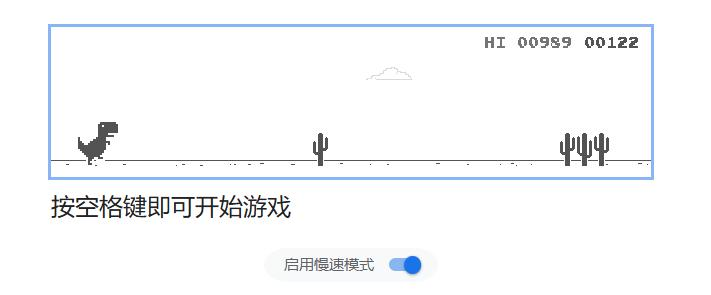cactus: (558, 132, 611, 168), (311, 132, 329, 167)
dino: (75, 121, 119, 166)
